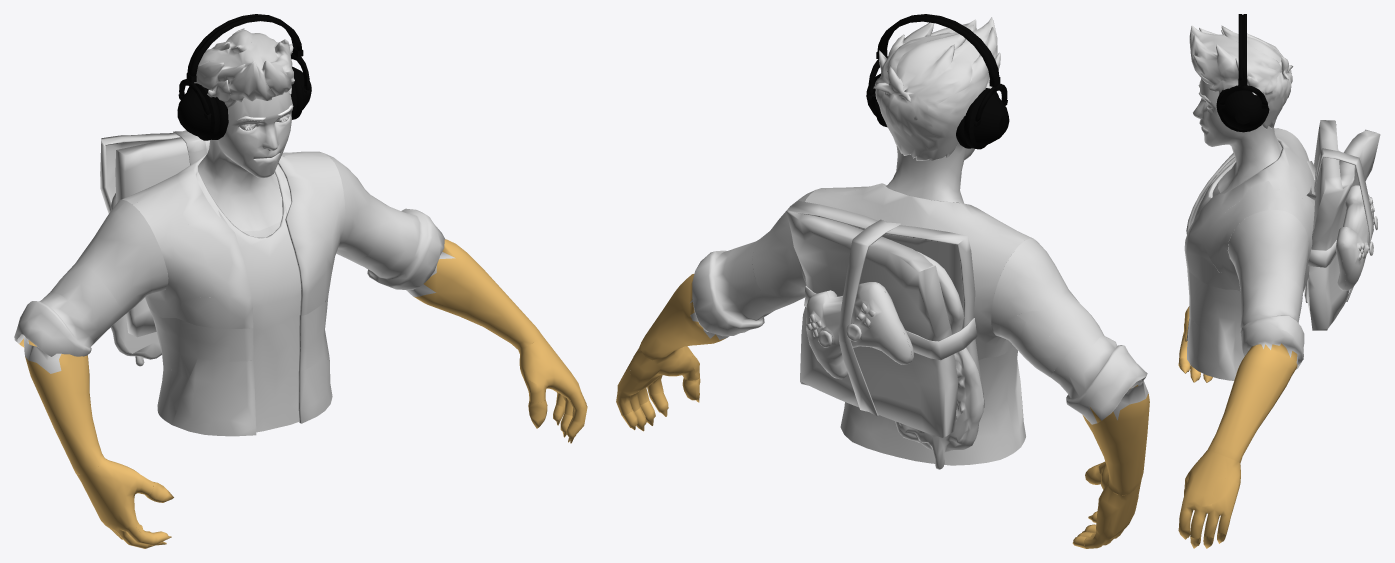
Rendered from boy.fbx.
The picture shows the model from 3 angles, left to right: view 1: azimuth 30°, elevation 25°; view 2: azimuth 150°, elevation 25°; view 3: azimuth 270°, elevation 25°; orthographic projection. The views are drawn at different scales.
Visible parts, largest first — view 1: LP sluch; view 2: LP sluch; view 3: LP sluch.
Boxes of the visible parts, left/top/right/bottom form: LP sluch: left=14, top=14, right=587, bottom=548; LP sluch: left=616, top=14, right=1149, bottom=548; LP sluch: left=1178, top=14, right=1380, bottom=548.
Bounding box in the file's own units: 531 × 468 × 211.
